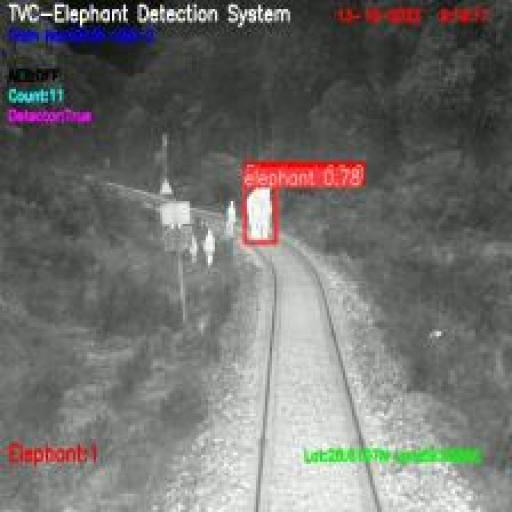Elephant: (244, 188, 276, 244)
